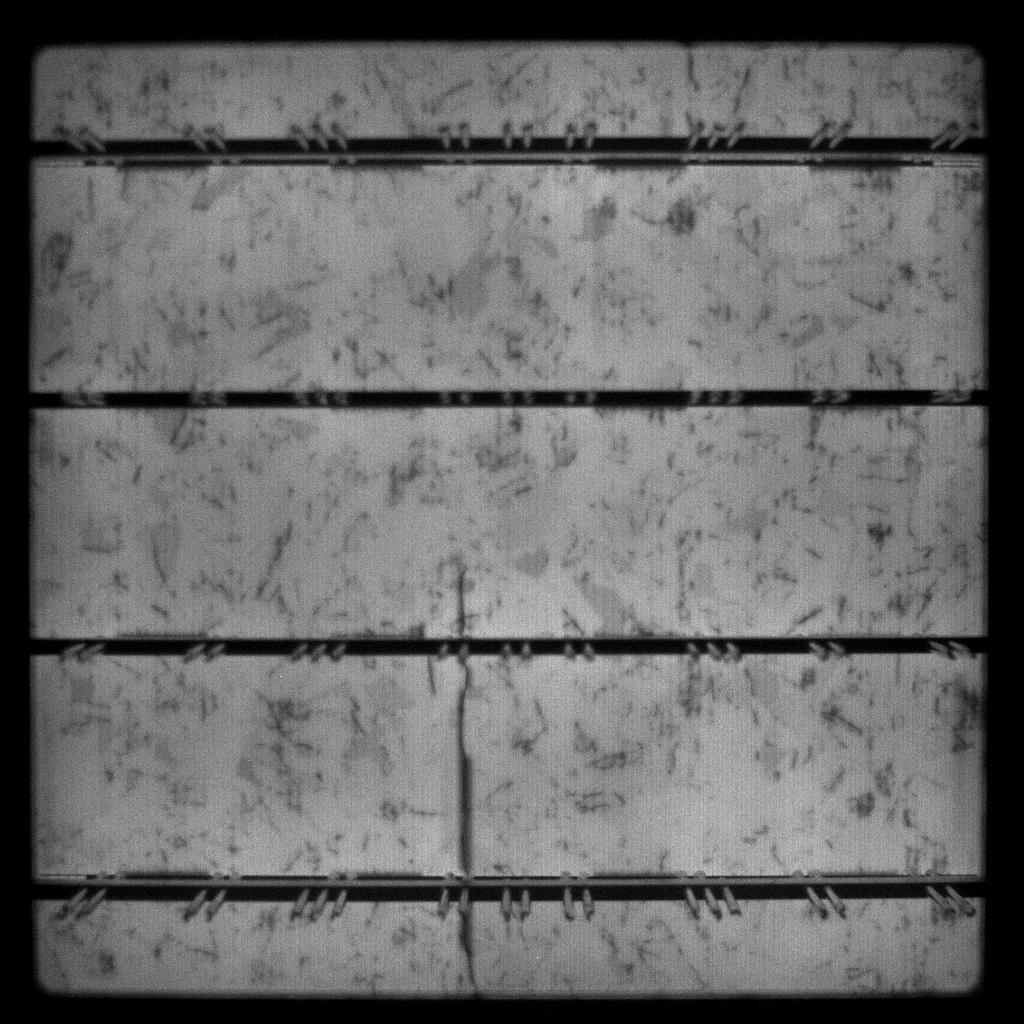crack: (374, 519, 545, 1003)
finger: (519, 235, 725, 441)
fragment: (162, 273, 316, 489)
